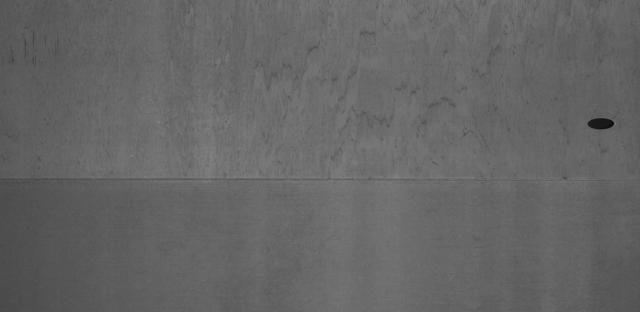oil_spot: (8, 27, 47, 73)
punching_hole: (584, 114, 619, 133)
silk_spot: (239, 4, 528, 162)
welding_line: (5, 170, 637, 192)
